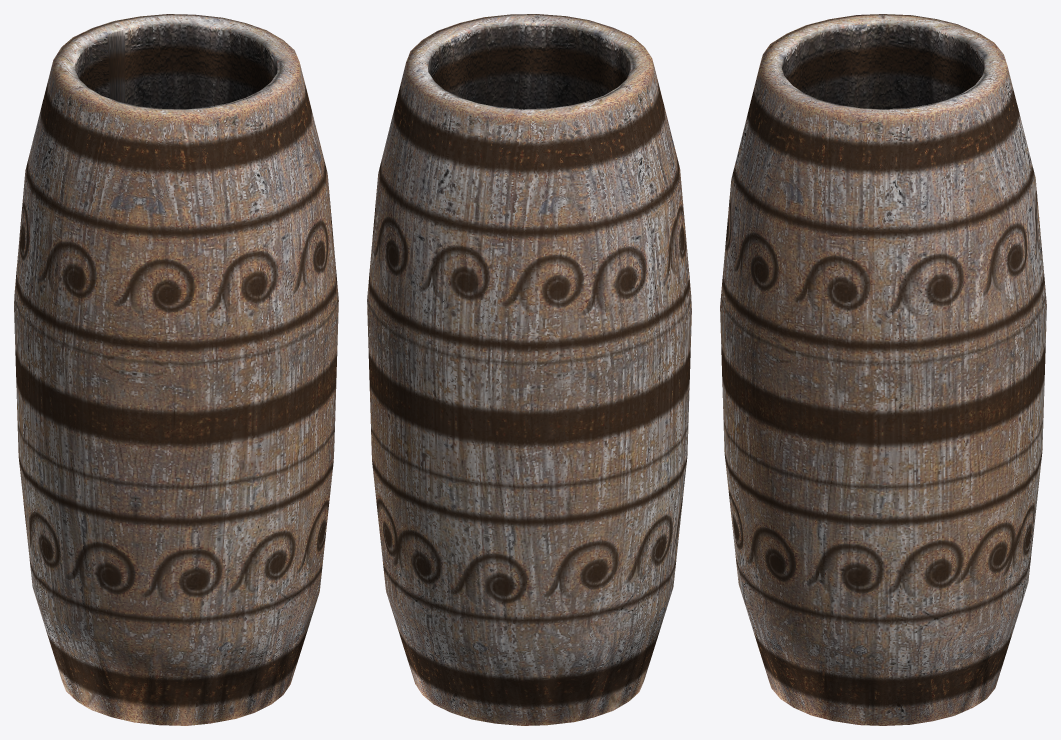
File: crock6.fbx
3 views of the same model, side by side, from view 1: azimuth 30°, elevation 25°; view 2: azimuth 150°, elevation 25°; view 3: azimuth 270°, elevation 25° (orthographic).
Visible parts, largest first — view 1: crock6_LOD0; view 2: crock6_LOD0; view 3: crock6_LOD0.
Part boxes in pixels (x1=…): crock6_LOD0: x1=14, y1=14, x2=338, y2=725; crock6_LOD0: x1=367, y1=14, x2=691, y2=725; crock6_LOD0: x1=720, y1=14, x2=1046, y2=725.
Size of what is drawn, in the model's own units: 0.3924 by 0.8161 by 0.3938.
